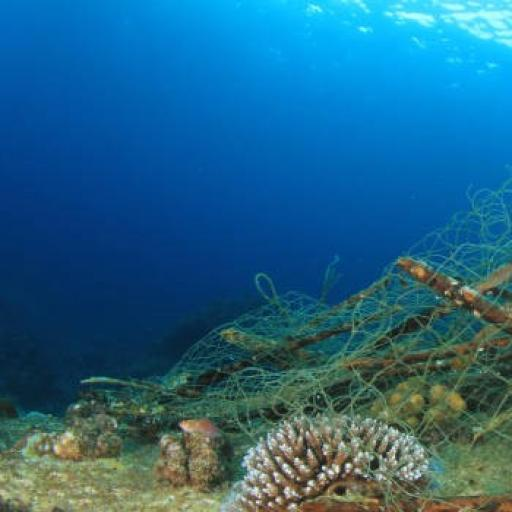net: (124, 178, 512, 508)
